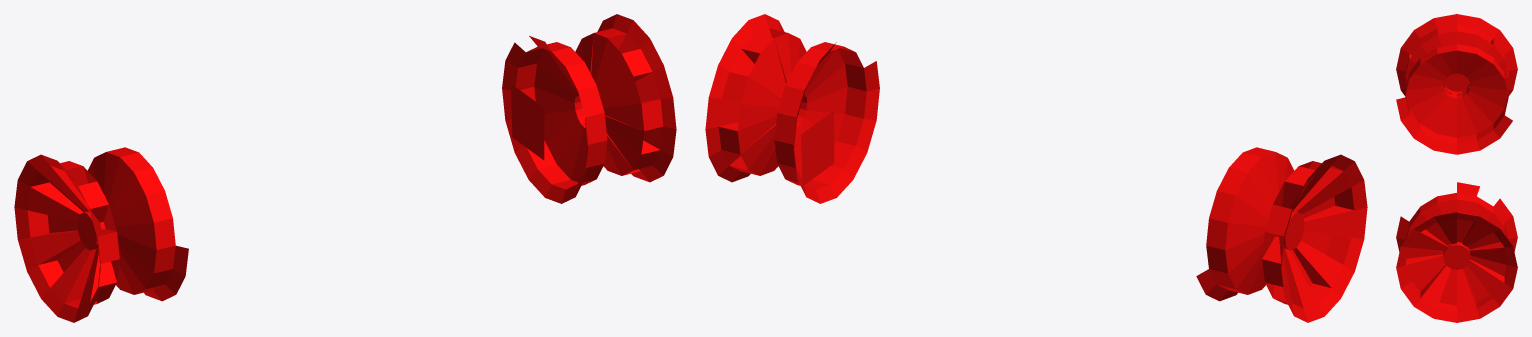
Rendered from behindTireFrame.glb.
3 renders of one model, left to right at view 1: azimuth 30°, elevation 25°; view 2: azimuth 150°, elevation 25°; view 3: azimuth 270°, elevation 25°, orthographic. The views are drawn at different scales.
Parts seen in each view (by area): view 1: behindTireFrame_Cube.010; view 2: behindTireFrame_Cube.010; view 3: behindTireFrame_Cube.010.
Boxes of the visible parts, x1,y1,x2,y2 form: behindTireFrame_Cube.010: [14, 14, 676, 322]; behindTireFrame_Cube.010: [705, 14, 1367, 322]; behindTireFrame_Cube.010: [1396, 14, 1517, 322].
Size of the model in its own units: 2.11 by 0.546 by 0.546.
1 material, 1 textured.
